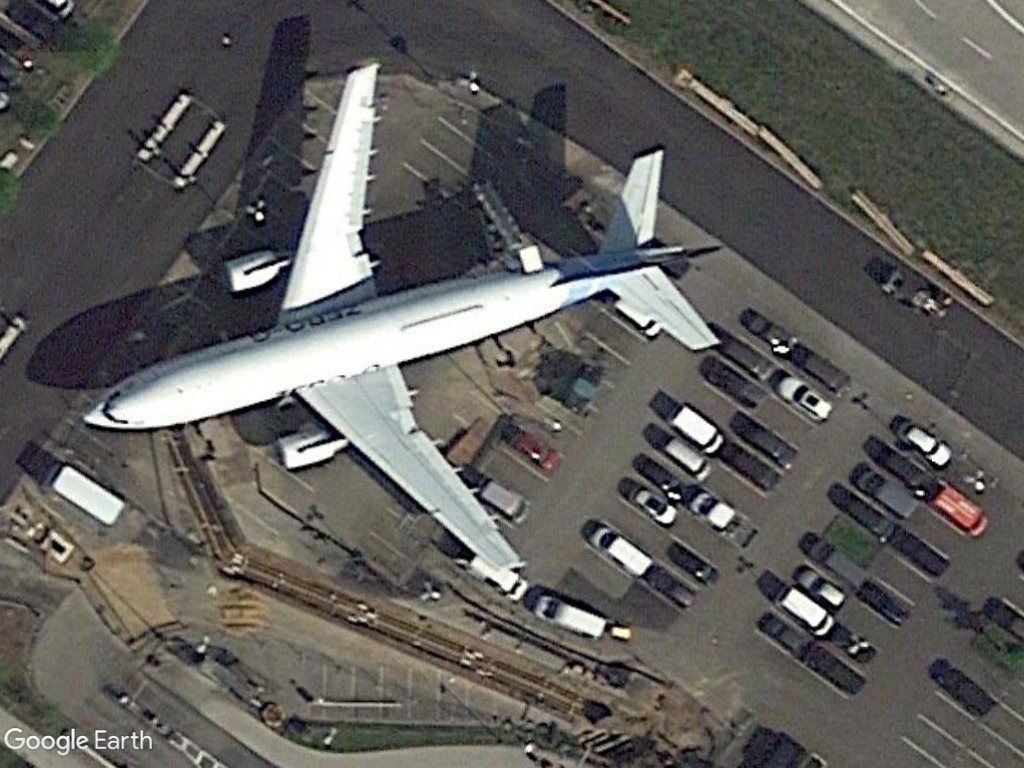airliner: (75, 58, 720, 586)
car: (892, 416, 956, 472), (770, 372, 835, 426)
van: (580, 519, 658, 585), (527, 589, 612, 644), (770, 580, 840, 645), (660, 398, 729, 457)
